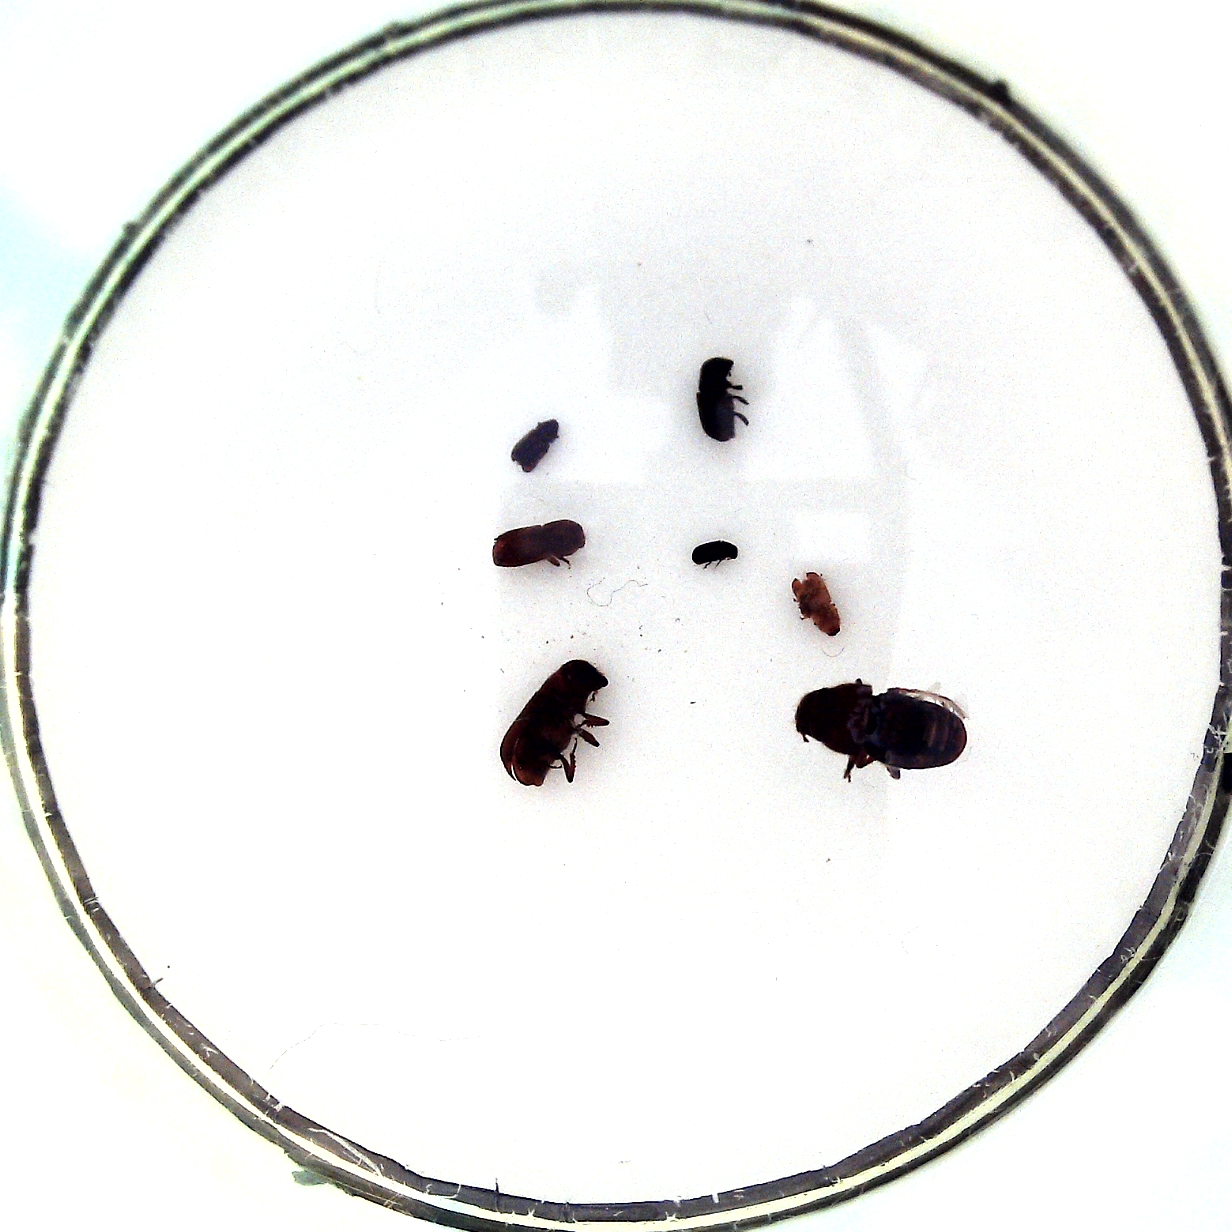Leconte: (794, 684, 968, 769), (500, 659, 610, 786)
acuminatus: (690, 539, 737, 563)
armandi: (696, 357, 736, 442)
coleoptera: (791, 571, 841, 636), (511, 417, 558, 472)
linnaeus: (492, 520, 586, 567)
